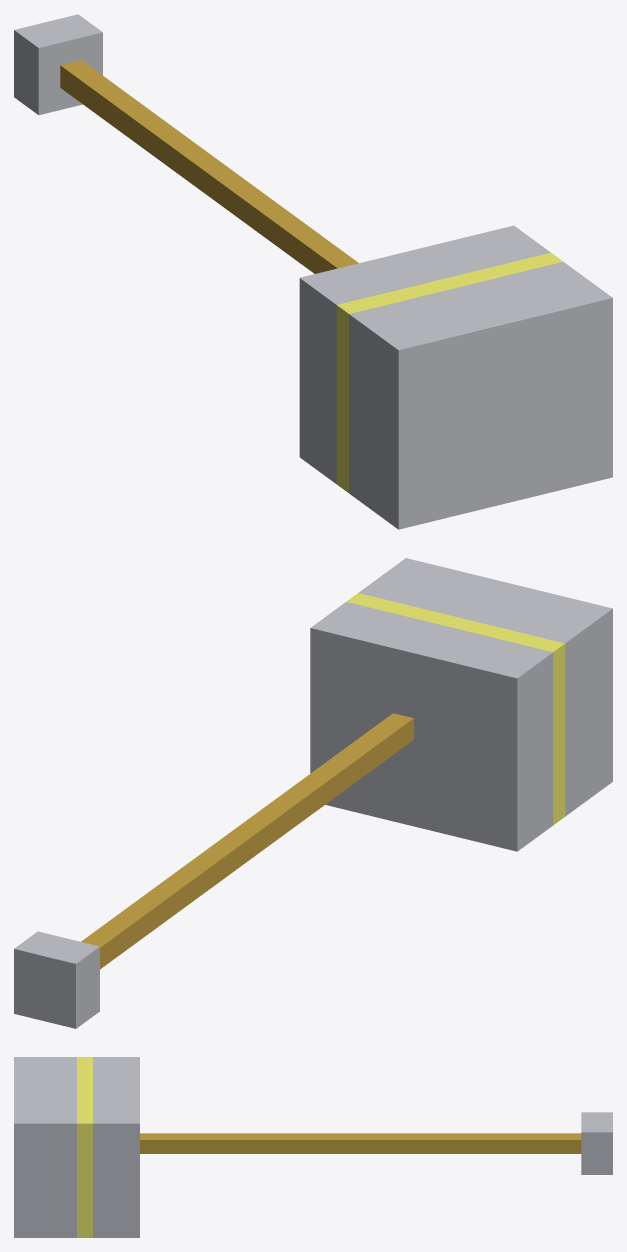
Rendered from vox_hammer_star.glb.
3 views of the same model, one above another, from view 1: azimuth 30°, elevation 25°; view 2: azimuth 150°, elevation 25°; view 3: azimuth 270°, elevation 25° (orthographic). The views are drawn at different scales.
Parts seen in each view (by area): view 1: vox_hammer_star; view 2: vox_hammer_star; view 3: vox_hammer_star.
Boxes of the visible parts, bbox=[...] form: vox_hammer_star: bbox=[14, 14, 612, 529]; vox_hammer_star: bbox=[14, 558, 612, 1028]; vox_hammer_star: bbox=[14, 1057, 612, 1237].
Size of the model in its own units: 0.2 by 0.1599 by 0.76.
